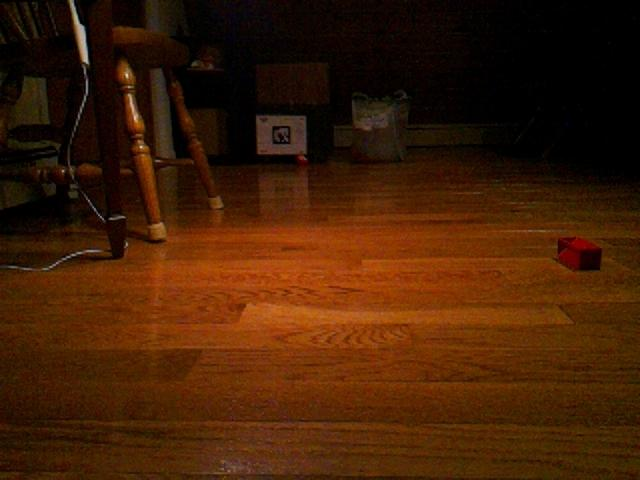red: (556, 234, 603, 272)
